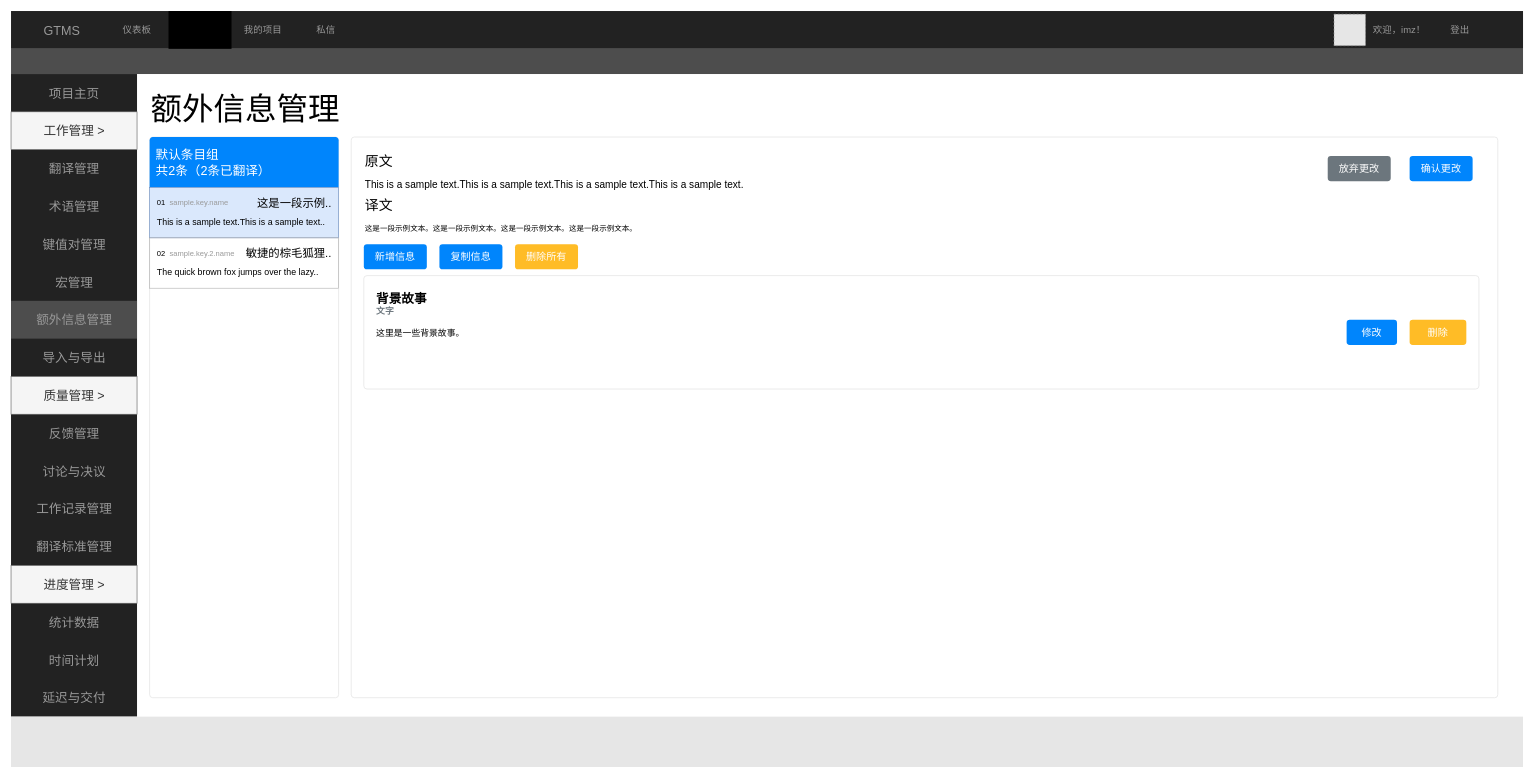
The diagram is 1534 pixels wide and 777 high, and some of its shapes have lost their labels. Grey dashed boxes stand in for pictures. Here are the shapes that lost their labels. From the top down, the centre of each, then its label:
At [199,30]: "项目浏览".
At [767,61]: "示例中文化项目01 / 额外信息管理".
At [767,741]: "Yifan Xu 毕业设计 @天津工业大学".
